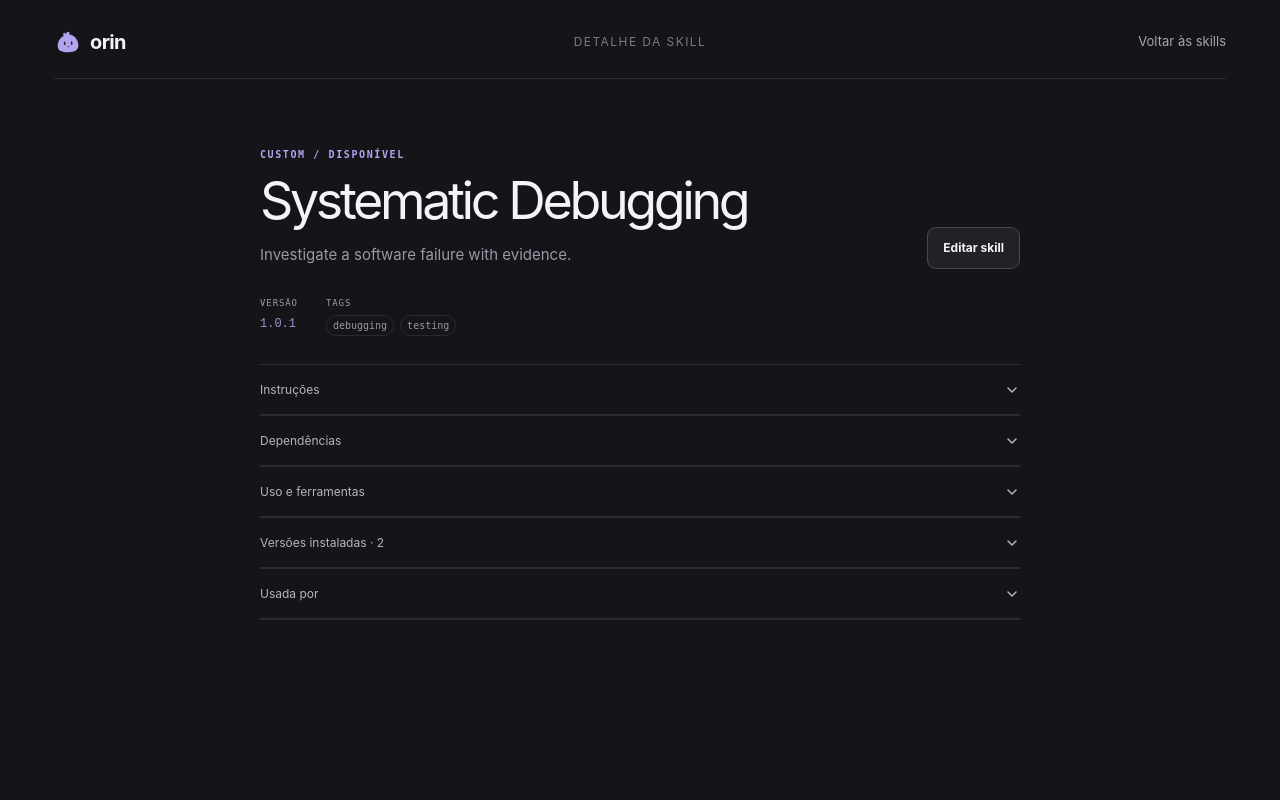
SkillsPage › shows which agents use a skill when the association endpoint returns items
Expected: the text "Usada por" is shown, [260,585,318,603]
Click the button "Usada por" at (289, 593), box [260,570,1020,618]
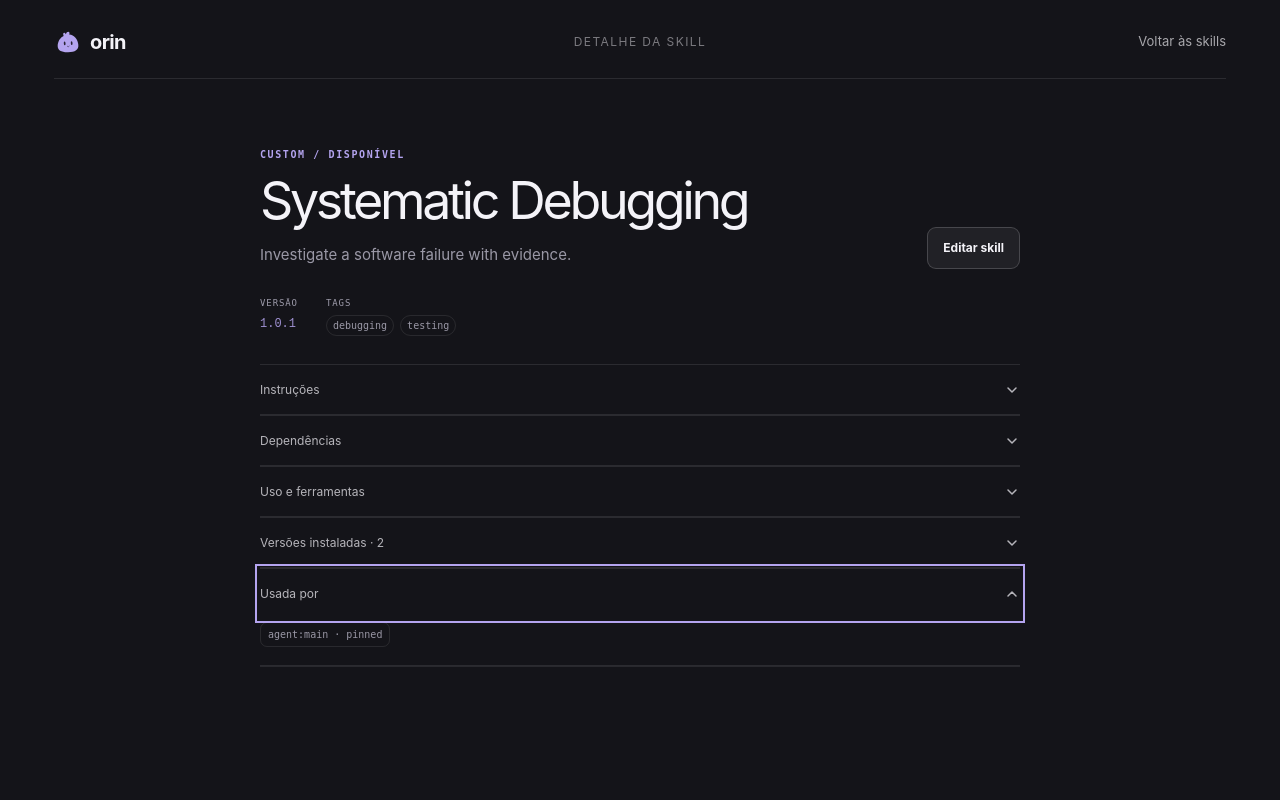
Now the list item "agent:main · pinned" is shown, box [260,622,390,648]
